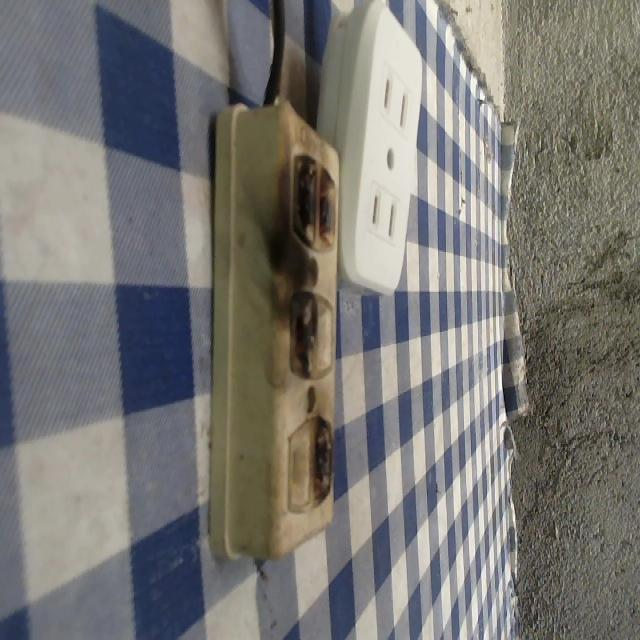-: (284, 152, 347, 261), (309, 410, 347, 522), (285, 292, 323, 376)
